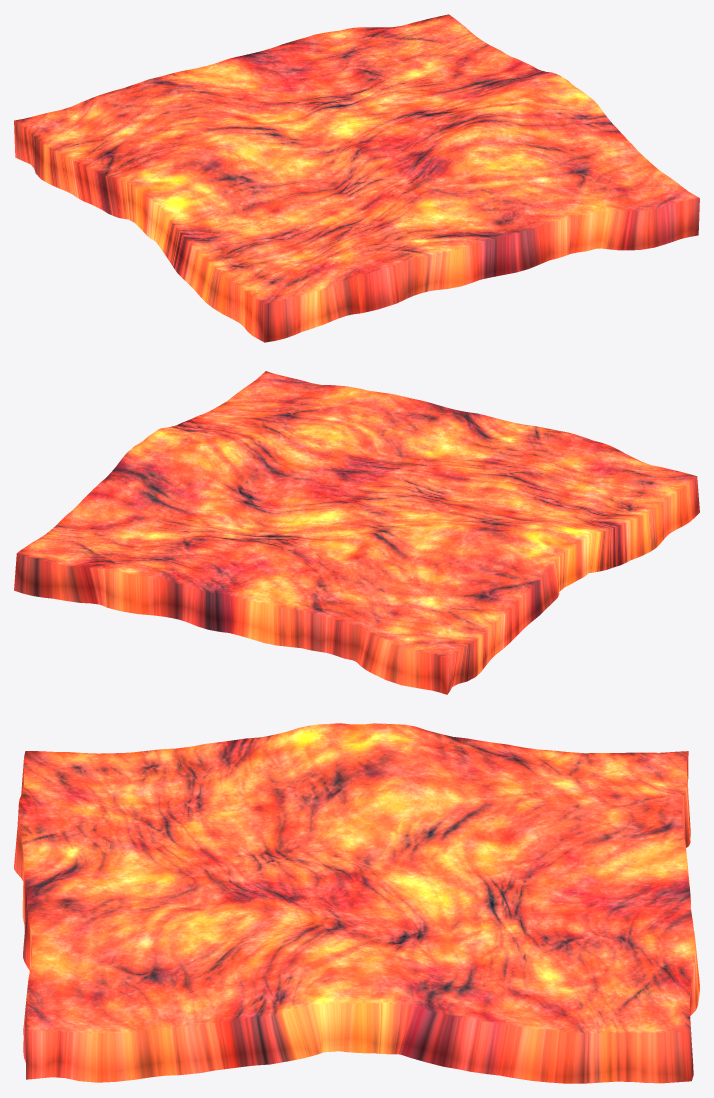
Rendered from Lava.fbx.
3 renders of one model, top to bottom at view 1: azimuth 30°, elevation 25°; view 2: azimuth 150°, elevation 25°; view 3: azimuth 270°, elevation 25°, orthographic. The views are drawn at different scales.
Parts seen in each view (by area): view 1: Plane; view 2: Plane; view 3: Plane.
Part boxes in pixels (x1,y1,x2,y2): Plane: (14,14,699,342); Plane: (14,371,699,694); Plane: (14,723,699,1083).
Bounding box in the file's own units: 110 × 15.3 × 110.
Materials: 1 (1 with a texture image).
